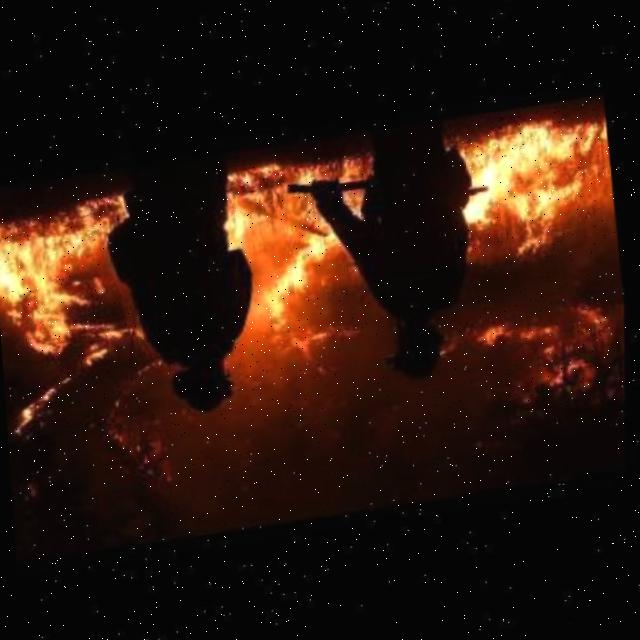fire: (0, 190, 127, 402), (456, 110, 612, 262), (244, 214, 340, 366)
